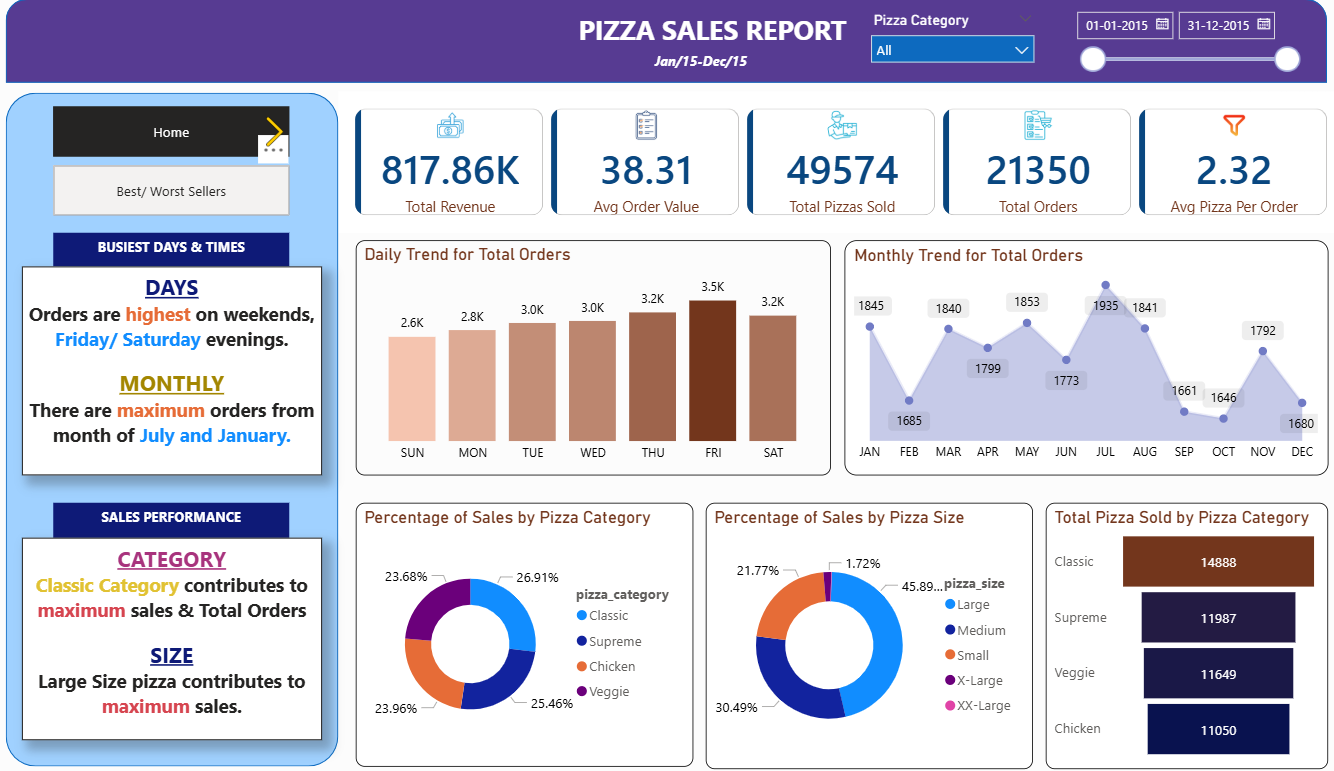

Layout of this report page (visuals, bound fields, positions):
{"tool":"powerbi","page":{"name":"Home","canvas":[1360,820],"ordinal":0},"visuals":[{"type":"cardVisual","fields":{"Data":["pizza_sales.Total Revenue","pizza_sales.Avg Order Value","pizza_sales.Total Pizzas Sold","pizza_sales.Total Orders","pizza_sales.Avg Pizza Per Order"]},"box":[351.2,102.5,1008.8,141.2],"z":0},{"type":"shape","box":[18.8,10,1321.2,83.8],"z":1000},{"type":"textbox","box":[583.1,16.9,285.7,54.5],"z":2000},{"type":"textbox","box":[662,57,120.3,27.8],"z":3000},{"type":"columnChart","title":"Daily Trend for Total Orders","fields":{"Category":["pizza_sales.Order_Day"],"Y":["pizza_sales.Total Orders"]},"box":[368.8,251.2,475,235],"z":4000},{"type":"areaChart","title":"Monthly Trend for Total Orders","fields":{"Category":["pizza_sales.Order Month"],"Y":["pizza_sales.Total Orders"]},"box":[857.5,251.2,483.8,235],"z":5000},{"type":"donutChart","title":"Percentage of Sales by Pizza Category","fields":{"Category":["pizza_sales.pizza_category"],"Y":["pizza_sales.Total Revenue"]},"box":[368.8,513.8,337.5,263.8],"z":6000},{"type":"donutChart","title":"Percentage of Sales by Pizza Size","fields":{"Y":["pizza_sales.Total Revenue"],"Category":["pizza_sales.pizza_size"]},"box":[718.8,513.8,327.5,266.2],"z":7000},{"type":"funnel","title":"Total Pizza Sold by Pizza Category","fields":{"Category":["pizza_sales.pizza_category"],"Y":["pizza_sales.Total Pizzas Sold"]},"box":[1058.8,513.8,282.5,266.2],"z":8000},{"type":"shape","box":[18.8,103.8,332.5,673.8],"z":9000},{"type":"textbox","box":[66.2,243.8,236.2,33.8],"z":10000},{"type":"textbox","box":[35,277.5,300,208.8],"z":11000},{"type":"textbox","box":[66.2,513.8,236.2,35],"z":12000},{"type":"textbox","box":[35,548.8,300,202.5],"z":13000},{"type":"slicer","fields":{"Values":["pizza_sales.pizza_category"]},"box":[873.8,17.5,183.8,66.2],"z":14000},{"type":"slicer","fields":{"Values":["pizza_sales.order_date"]},"box":[1077.5,12.5,243.8,81.2],"z":15000},{"type":"pageNavigator","box":[66.2,117.5,236.2,50],"z":16000},{"type":"pageNavigator","box":[66.2,176.2,236.2,50],"z":17000},{"type":"image","box":[272.5,126.2,30,32.5],"z":18000}]}

Visuals, with their boxes on the page's 1360x820 design canvas (x1, y1, x2, y2). These are canvas units, not pixel positions in the 1334x771 screenshot, which may show the page scaled, cropped or inside an application window:
cardVisual - pizza_sales.Total Revenue x pizza_sales.Avg Order Value: 351 102 1360 244
shape: 19 10 1340 94
textbox: 583 17 869 71
textbox: 662 57 782 85
"Daily Trend for Total Orders" columnChart: 369 251 844 486
"Monthly Trend for Total Orders" areaChart: 858 251 1341 486
"Percentage of Sales by Pizza Category" donutChart: 369 514 706 778
"Percentage of Sales by Pizza Size" donutChart: 719 514 1046 780
"Total Pizza Sold by Pizza Category" funnel: 1059 514 1341 780
shape: 19 104 351 778
textbox: 66 244 302 278
textbox: 35 278 335 486
textbox: 66 514 302 549
textbox: 35 549 335 751
slicer - pizza_sales.pizza_category: 874 18 1058 84
slicer - pizza_sales.order_date: 1078 12 1321 94
pageNavigator: 66 118 302 168
pageNavigator: 66 176 302 226
image: 272 126 302 159
